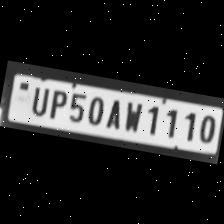0: (82, 92, 108, 126), (193, 110, 218, 145)
1: (138, 100, 162, 138), (174, 106, 198, 142), (158, 104, 180, 140)
5: (64, 89, 88, 124)
A: (102, 94, 124, 130)
P: (44, 86, 68, 121)
U: (26, 83, 50, 117)
W: (117, 96, 144, 134)
